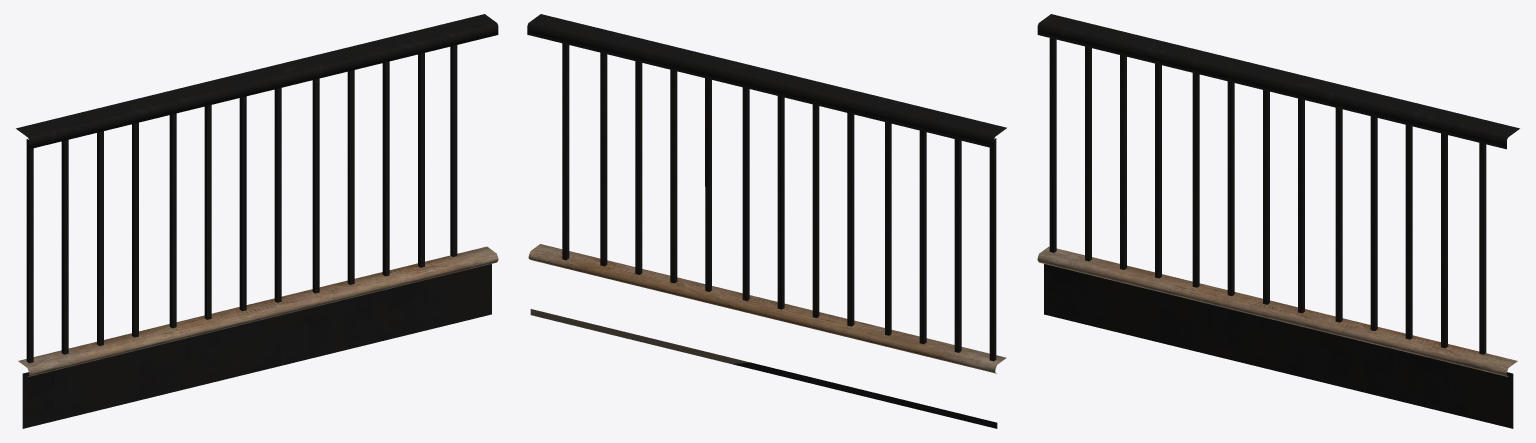
The model's file is SM_Banister_8th_01.glb.
3 renders of one model, left to right at view 1: azimuth 30°, elevation 25°; view 2: azimuth 150°, elevation 25°; view 3: azimuth 330°, elevation 25°, orthographic.
Parts seen in each view (by area): view 1: SM_Banister_8th_01; view 2: SM_Banister_8th_01; view 3: SM_Banister_8th_01.
Boxes of the visible parts, left/top/right/bottom form: SM_Banister_8th_01: left=16, top=14, right=498, bottom=428; SM_Banister_8th_01: left=527, top=14, right=1006, bottom=428; SM_Banister_8th_01: left=1037, top=14, right=1519, bottom=428.
Bounding box in the file's own units: 2 × 1.2 × 0.1092.
Materials: 2 (2 with a texture image).
